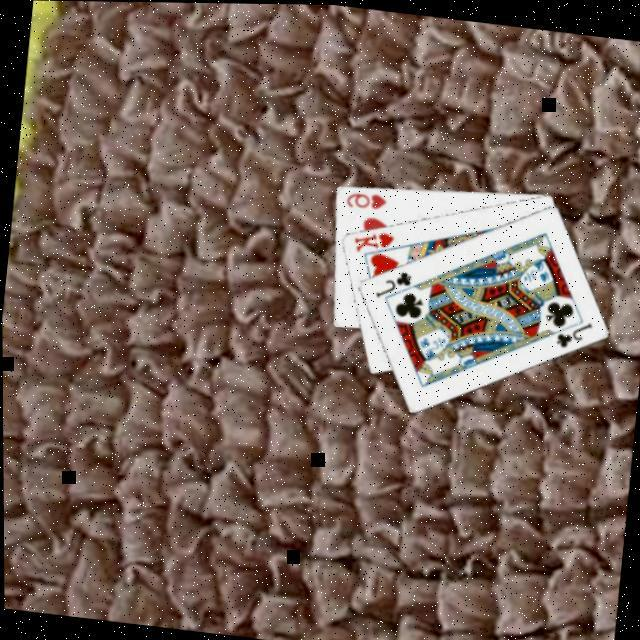6H: (342, 187, 390, 215)
JC: (550, 314, 595, 355), (371, 264, 415, 305)
KH: (349, 226, 398, 260)
